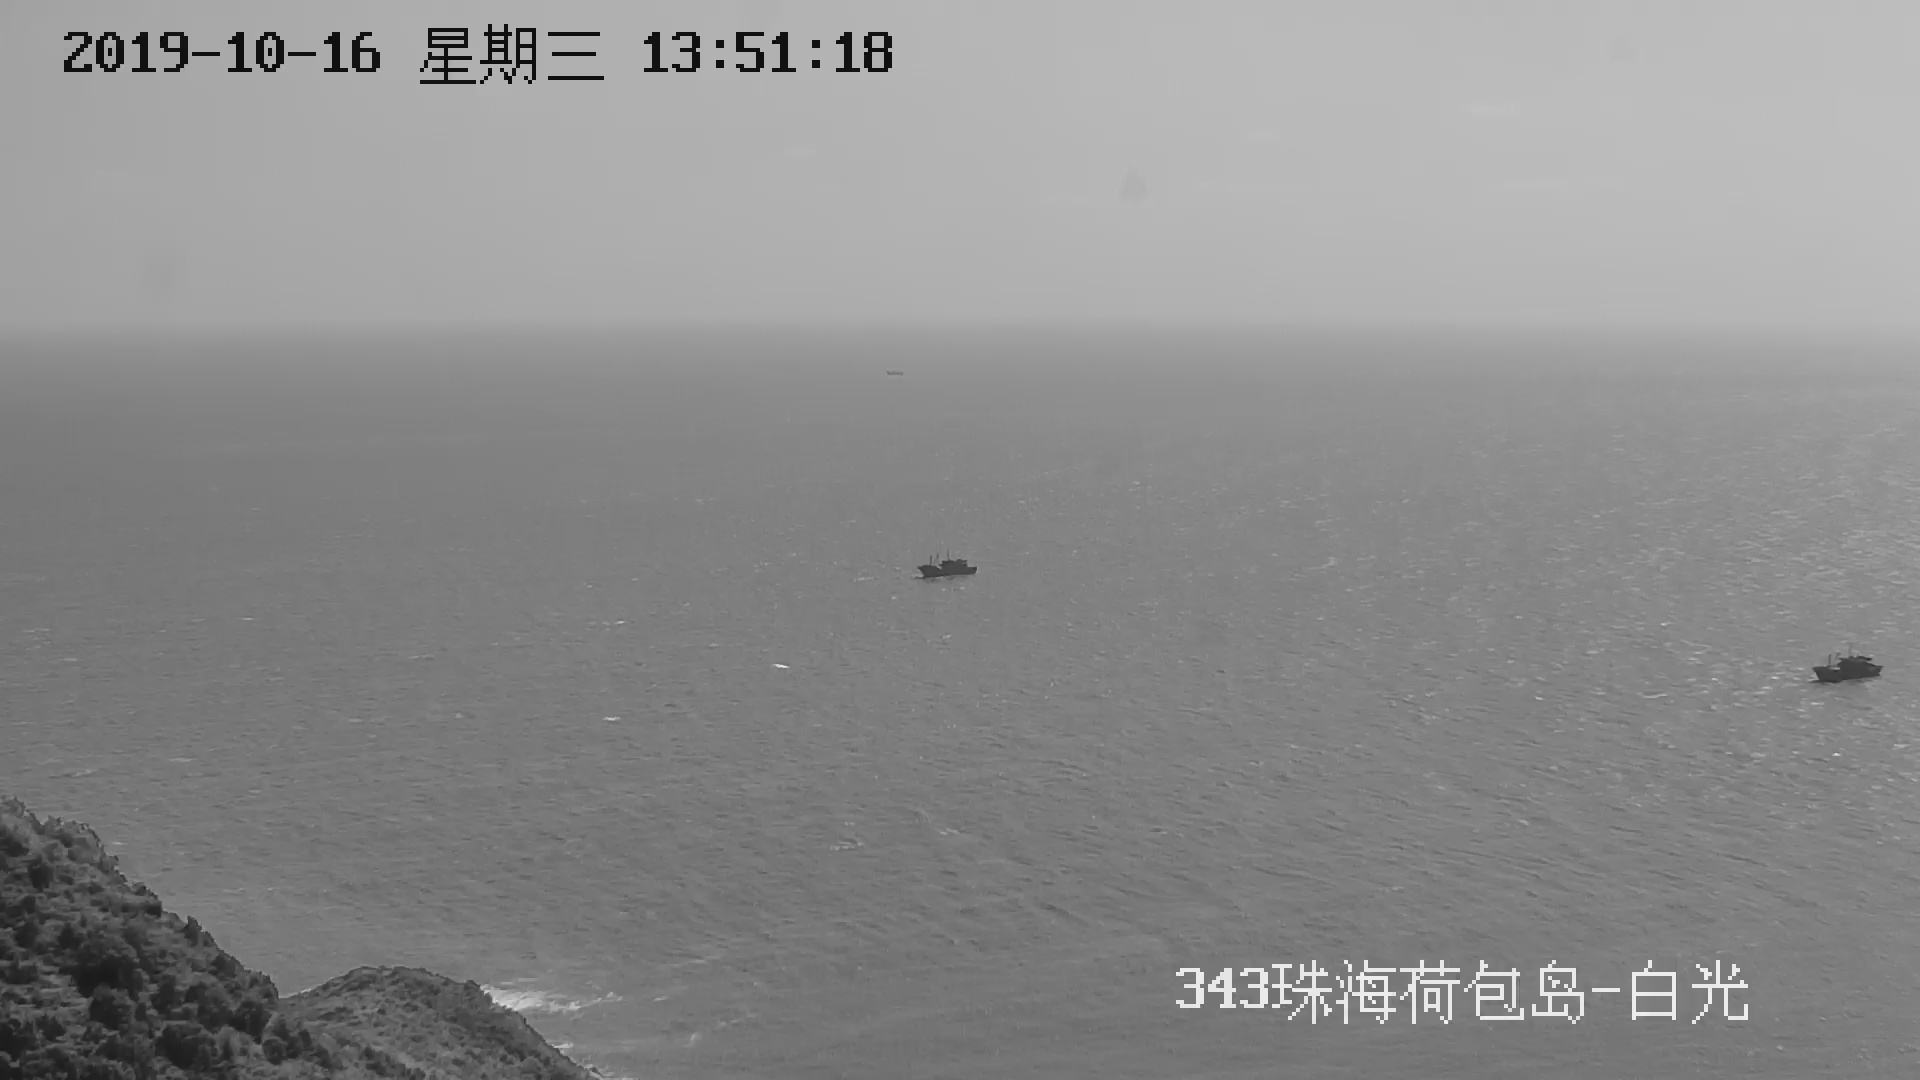ship: (1809, 640, 1884, 684), (918, 558, 977, 580)
